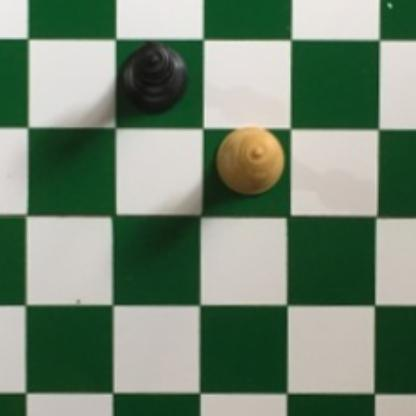black-queen: (118, 37, 190, 120)
white-queen: (213, 124, 283, 194)
